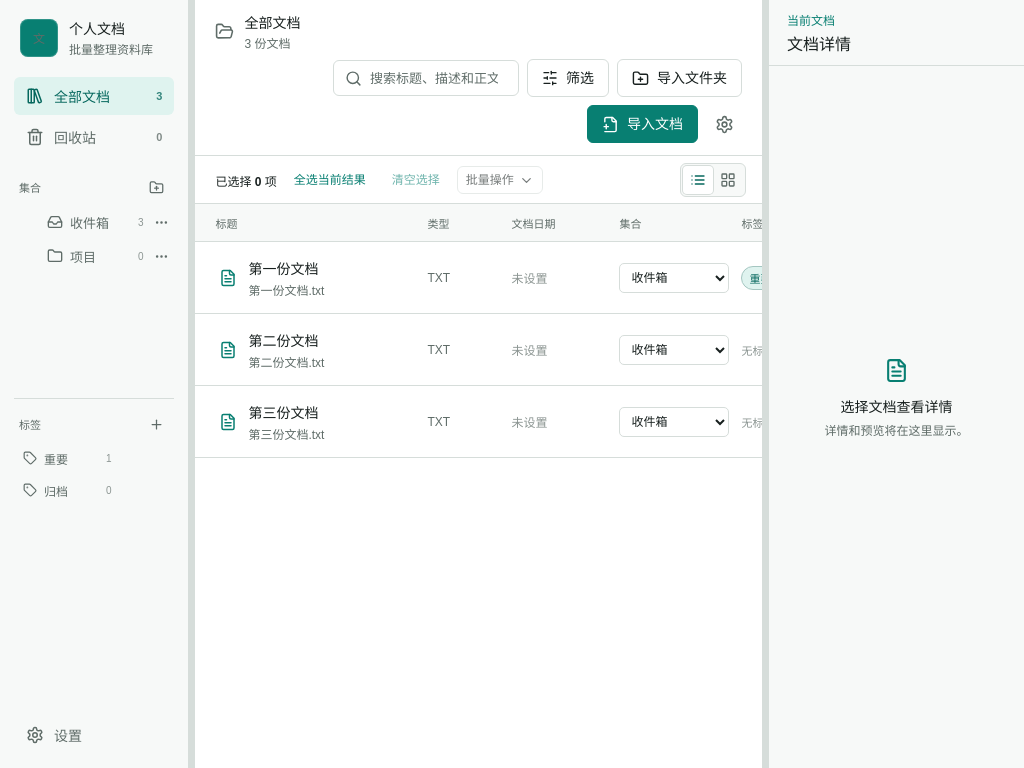
Test: 批量整理操作 › supports multi-select in list and grid with select-all and clear controls
Expected: the text "第一份文档" is shown, [248,260,318,276]
Expected: the text "已选择 0 项" is shown, [215,172,277,188]
What coordinates should you click on to do the following:
click the button with aria-label "选择文档 第一份文档"
I would click on:
 (315, 278)
Its box is [215,249,415,306].
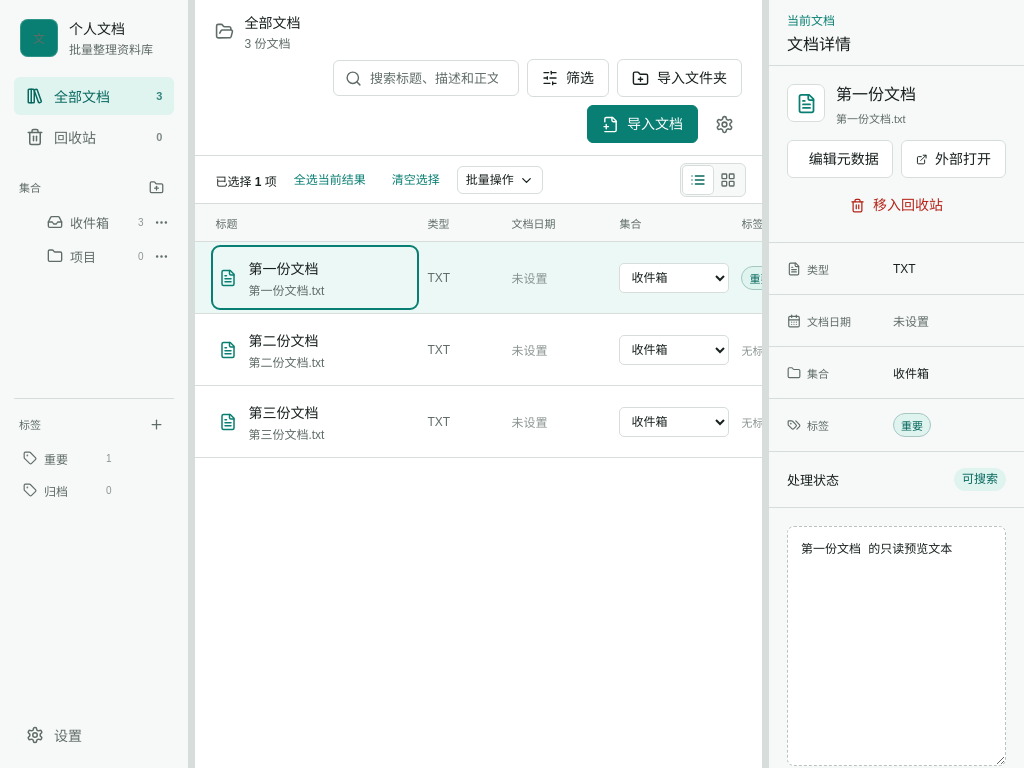
What coordinates should you click on to do the following:
click the button with aria-label "选择文档 第二份文档"
I would click on:
 (315, 350)
Its box is [215,321,415,378].
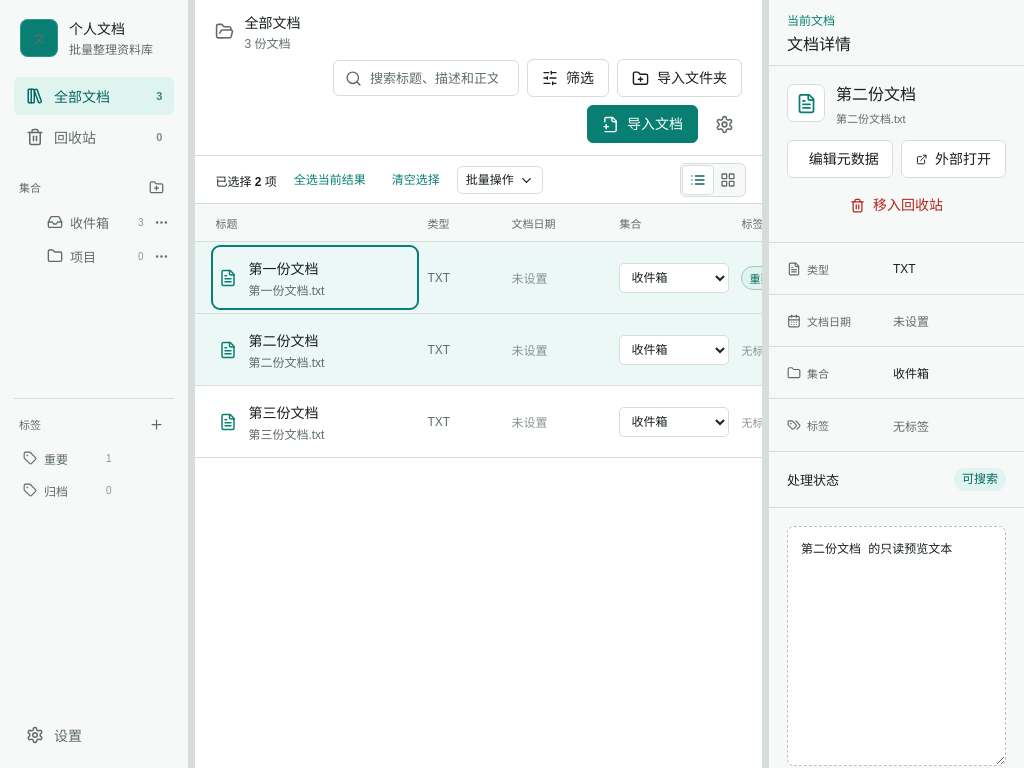
Expected: the text "已选择 2 项" is shown, [215,172,277,188]
What coordinates should you click on to do the following:
click the button named "网格视图"
I would click on:
 (728, 180)
Its box is [713,166,743,194].
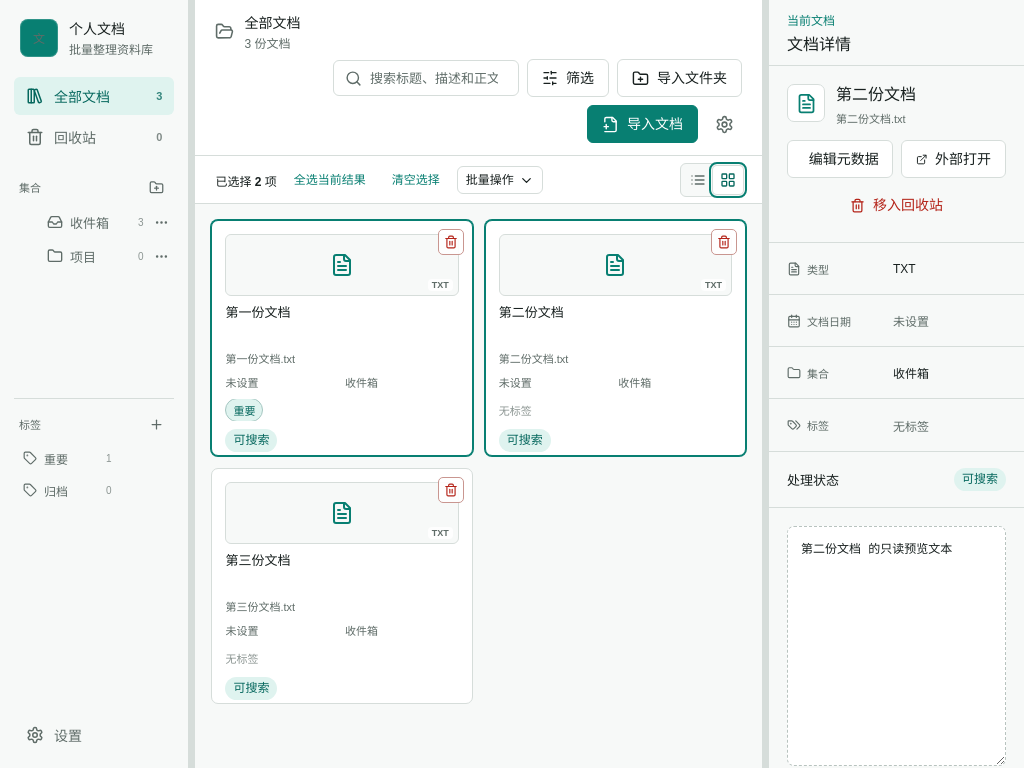
What coordinates should you click on to do the following:
click the button with aria-label "选择文档 第三份文档"
I would click on:
 (342, 586)
Its box is [212,469,472,703].
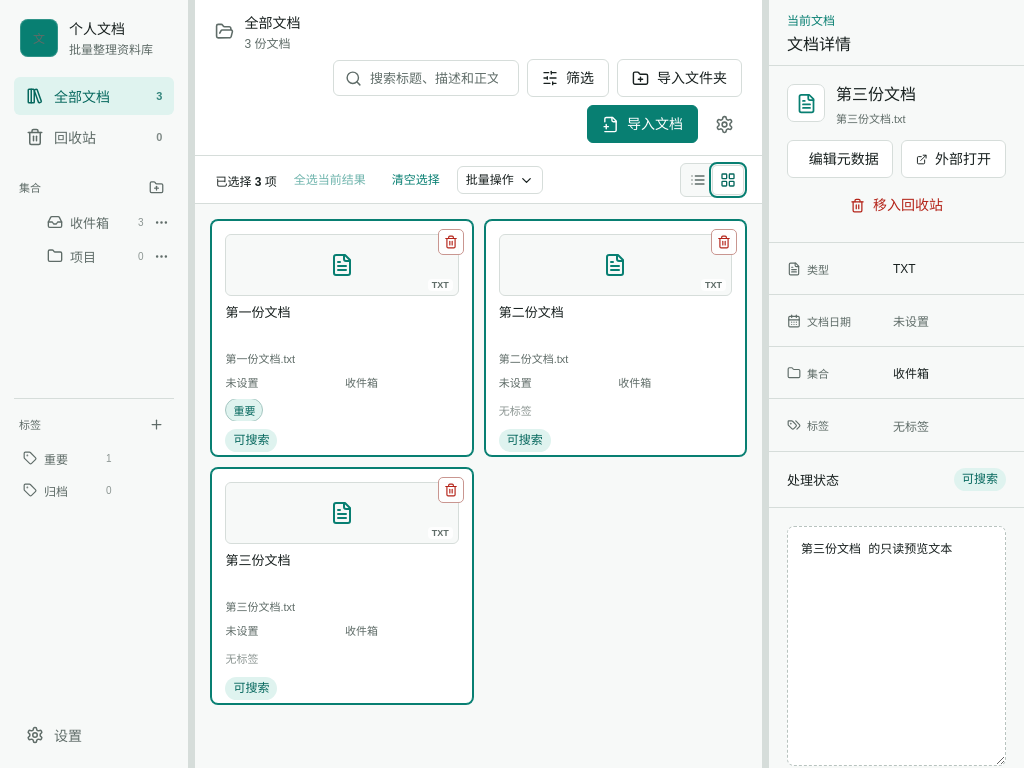
Expected: the text "已选择 3 项" is shown, [215,172,277,188]
What coordinates should you click on to do the following:
click the button "清空选择"
I would click on:
 (416, 180)
Its box is [383,166,449,194].
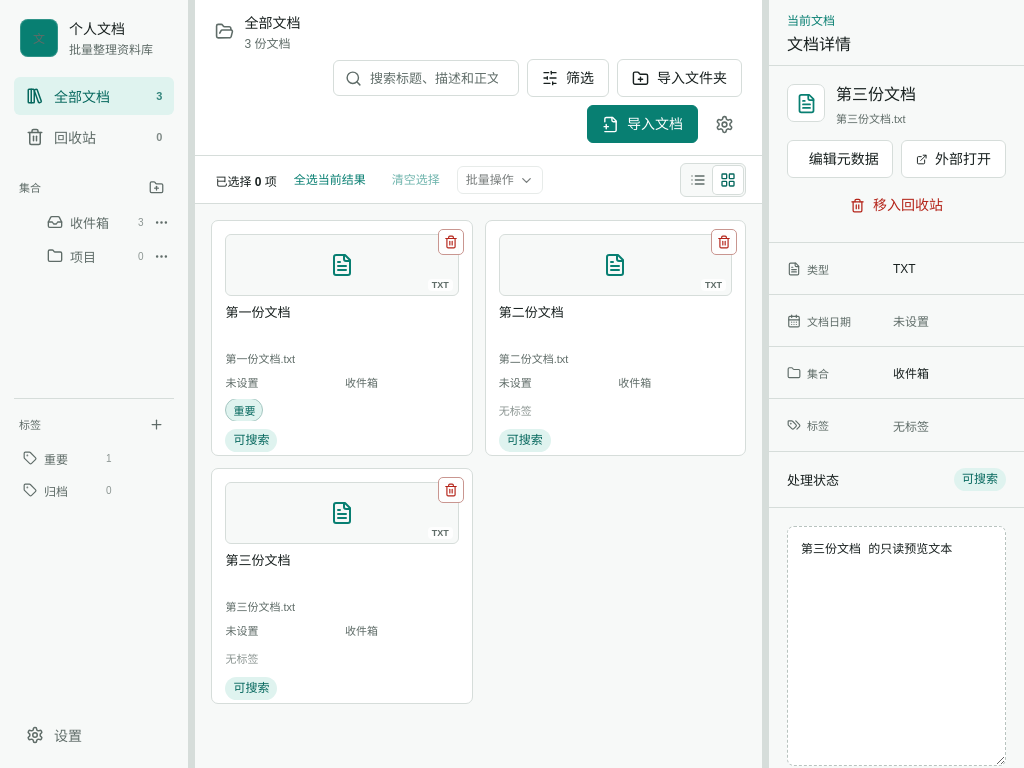
Expected: the text "已选择 0 项" is shown, [215,172,277,188]
What coordinates should you click on to do the following:
click the button "全选当前结果"
I would click on:
 (330, 180)
Its box is [285,166,375,194].
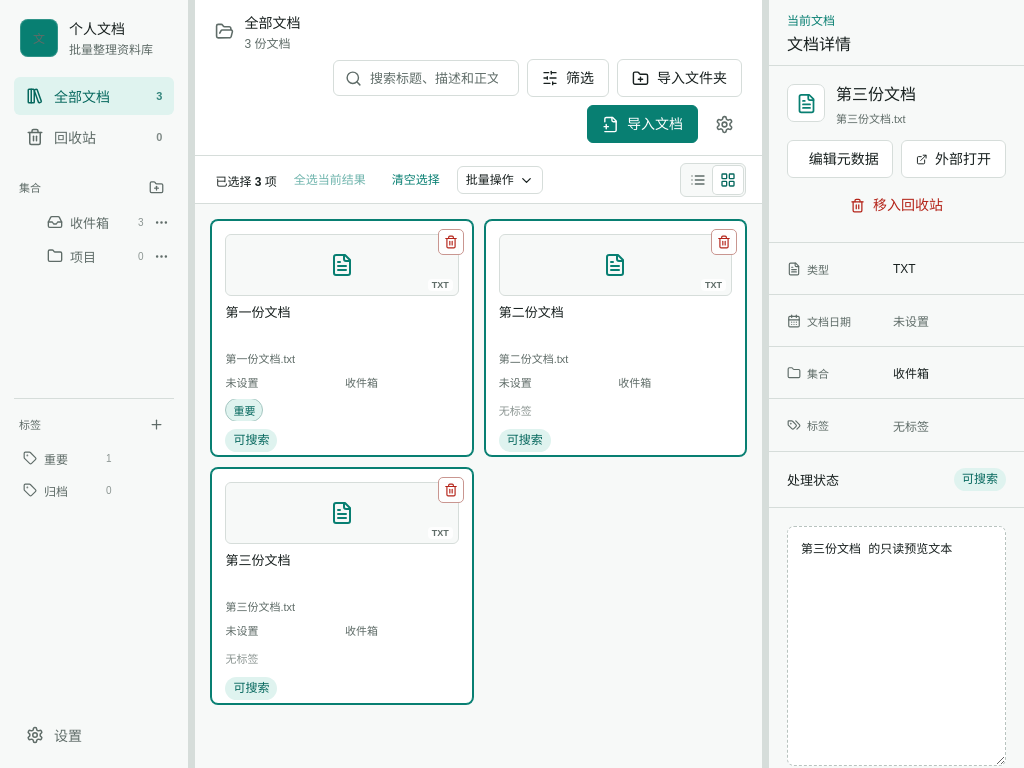
Expected: the text "已选择 3 项" is shown, [215,172,277,188]
